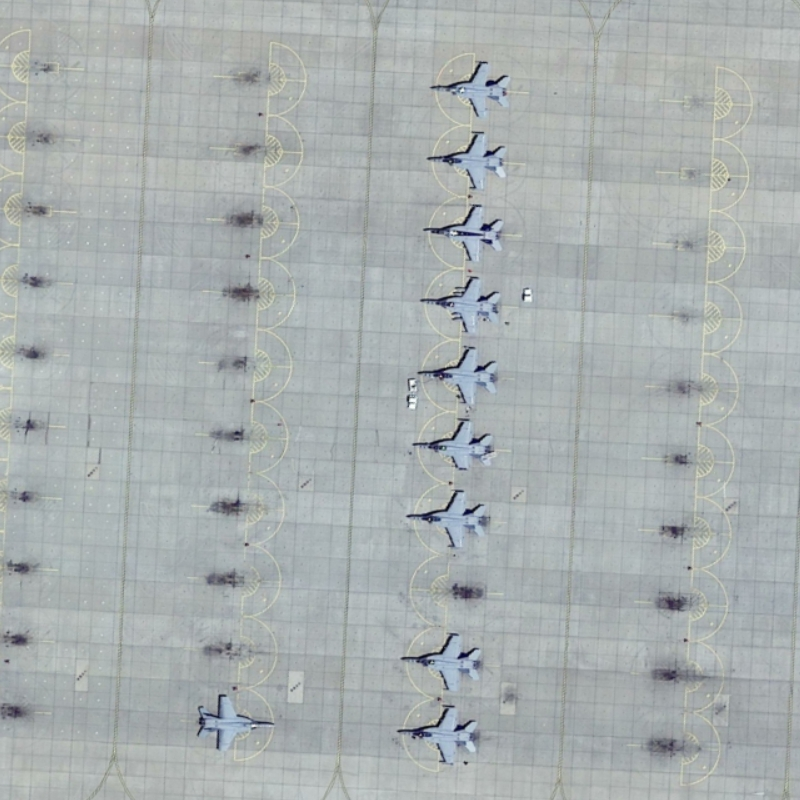A16: (402, 487, 496, 551), (417, 201, 507, 265), (411, 344, 501, 407), (394, 704, 482, 766), (425, 130, 511, 193), (426, 59, 512, 120), (396, 632, 483, 691), (409, 417, 497, 475), (196, 690, 278, 752)
